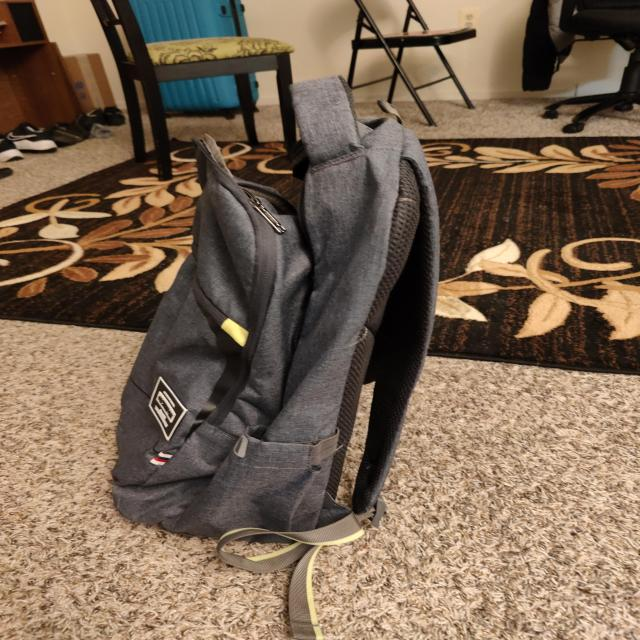bag: (130, 101, 442, 555)
